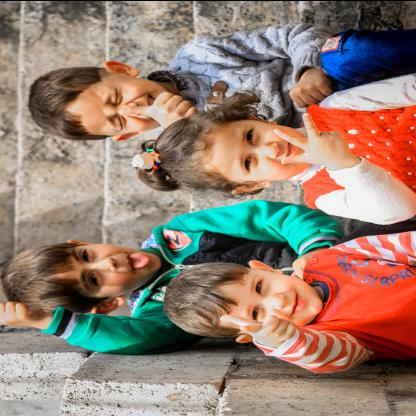Eye: (82, 270, 102, 290), (108, 114, 128, 130), (108, 85, 124, 104), (248, 304, 264, 322), (250, 278, 268, 294), (76, 246, 94, 262), (244, 126, 258, 144), (242, 155, 256, 171)
Mouth: (124, 247, 152, 274), (286, 287, 312, 316), (280, 140, 298, 160)
Nose: (262, 292, 288, 310), (257, 140, 279, 160), (90, 256, 118, 270), (121, 101, 143, 115)
